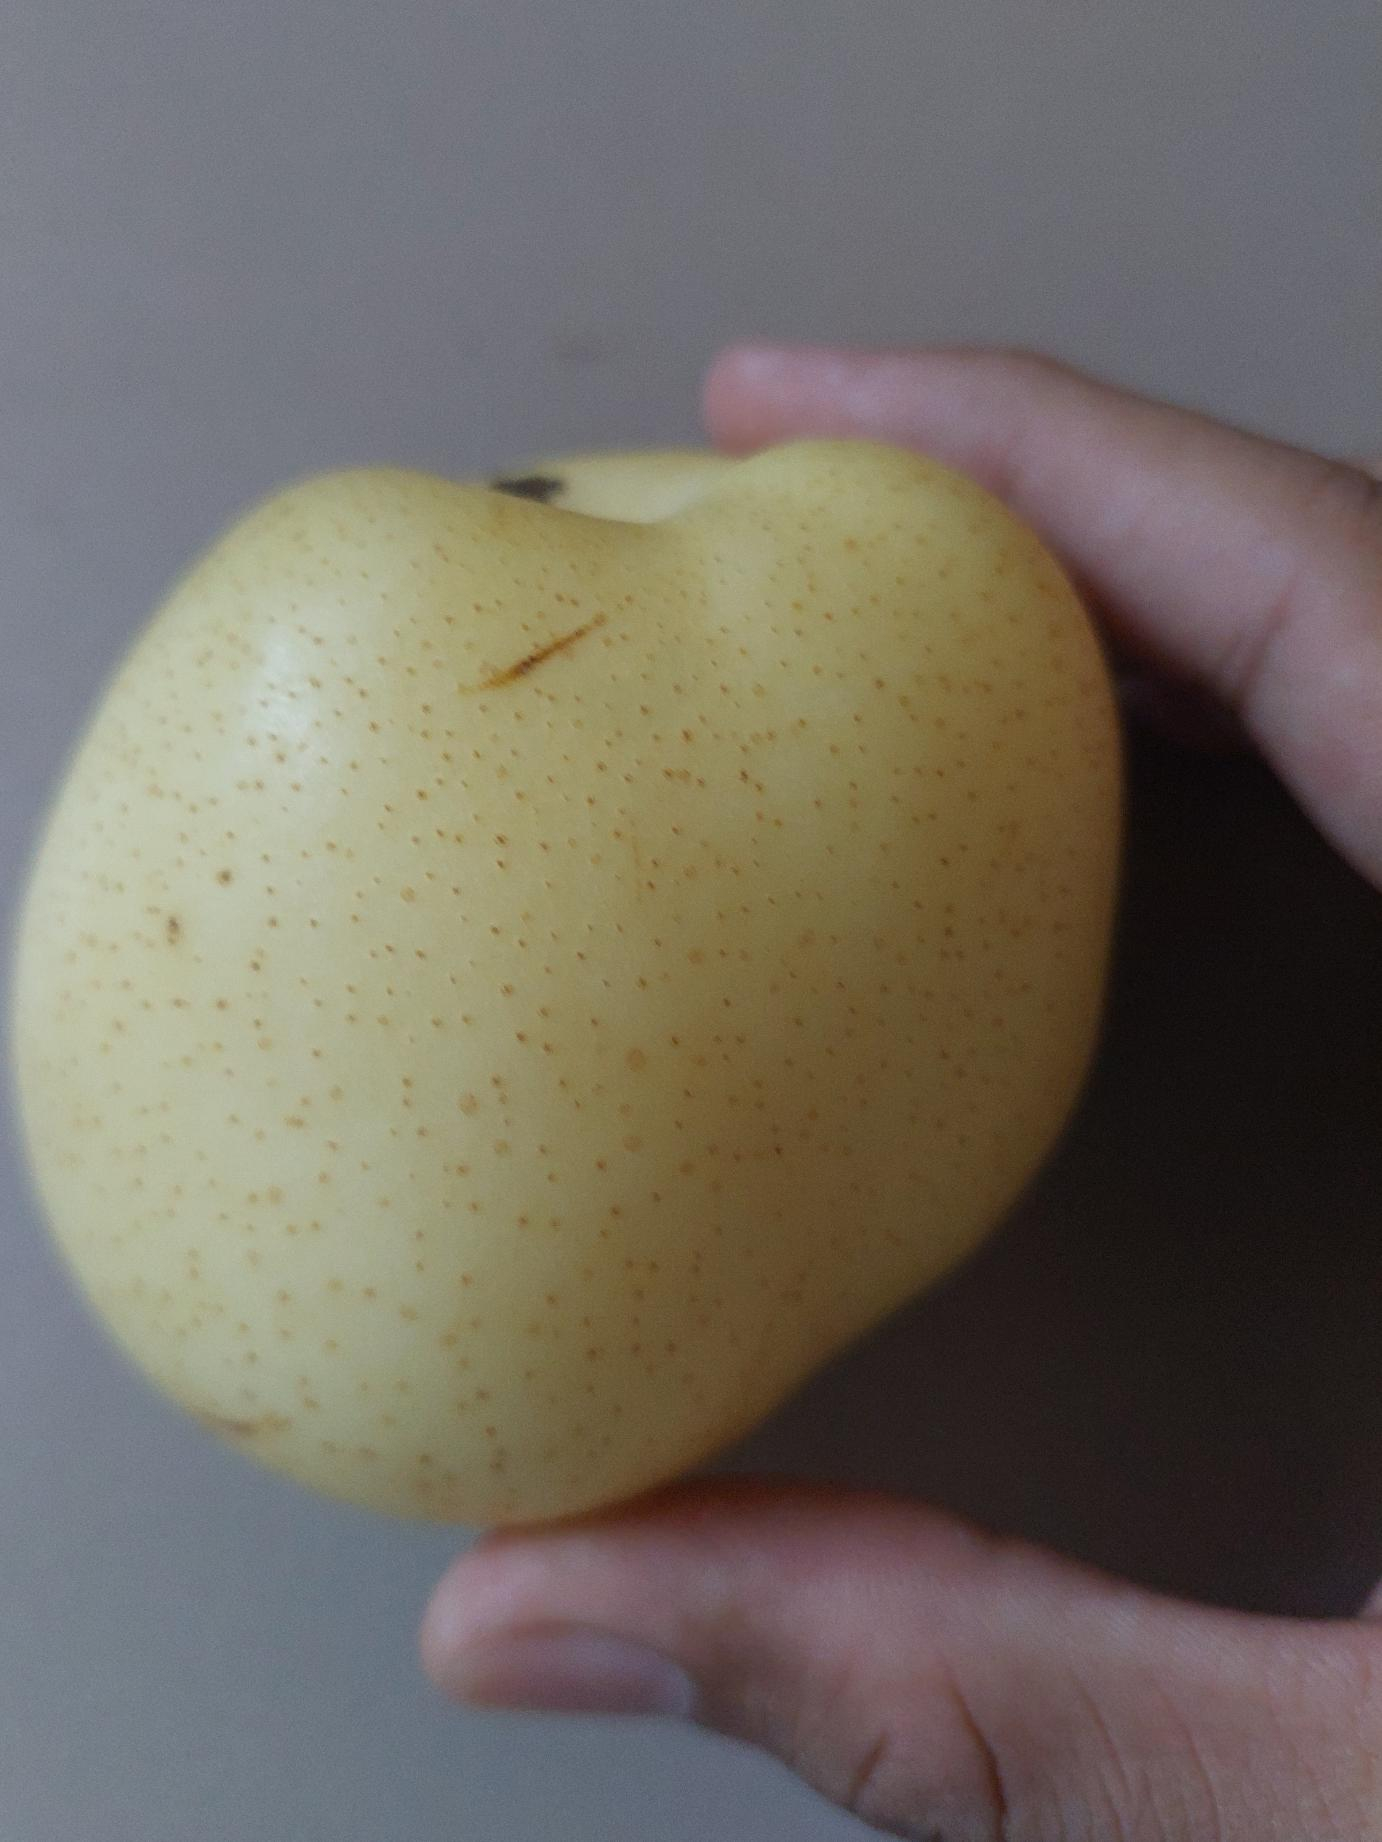Good Pear: (7, 424, 1122, 1524)
